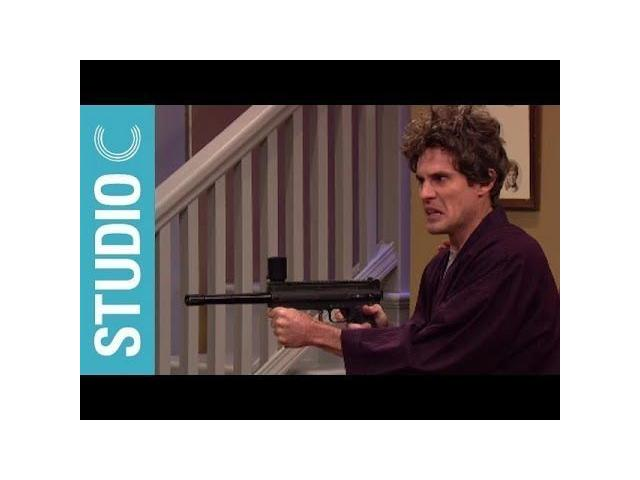rifle: (181, 265, 393, 366)
